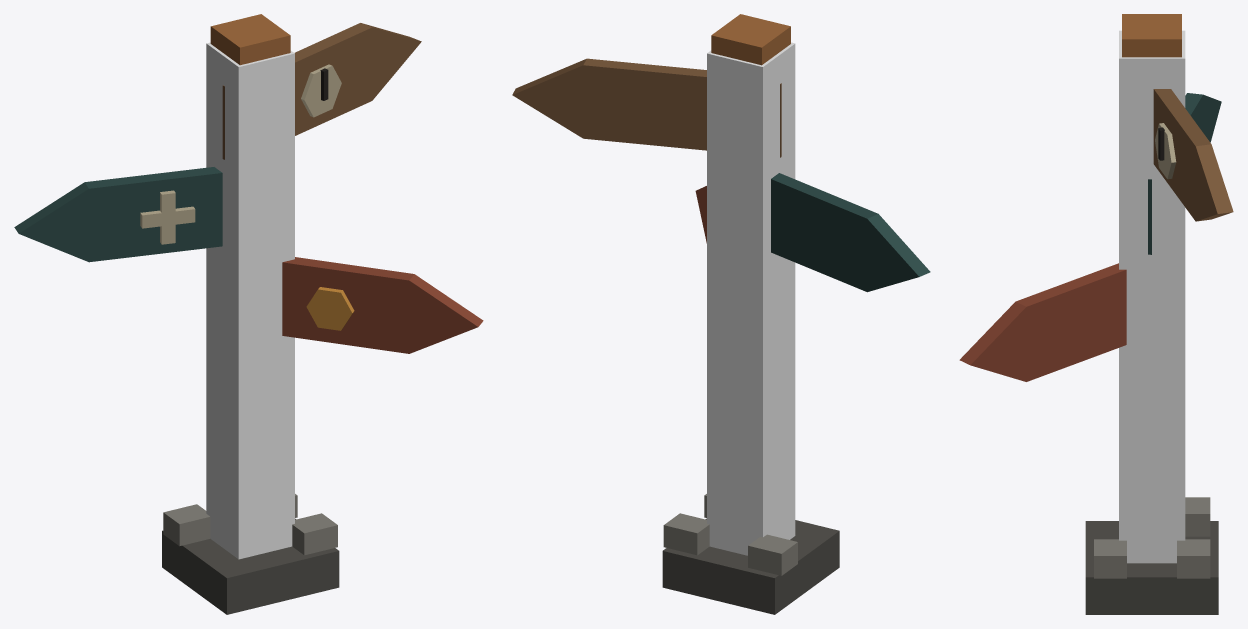
The model's file is camp_signpost.glb.
3 renders of one model, left to right at view 1: azimuth 30°, elevation 25°; view 2: azimuth 150°, elevation 25°; view 3: azimuth 270°, elevation 25°, orthographic. The views are drawn at different scales.
Parts seen in each view (by area): view 1: Body, camp_signpost-col-col; view 2: camp_signpost-col-col, Body; view 3: Body, camp_signpost-col-col.
Boxes of the visible parts, x1,y1,x2,y2 form: Body: [14, 14, 483, 614]; camp_signpost-col-col: [206, 42, 294, 559]; camp_signpost-col-col: [707, 42, 795, 555]; Body: [512, 14, 930, 614]; Body: [959, 14, 1233, 614]; camp_signpost-col-col: [1119, 30, 1185, 563].
Size of the model in its own units: 2.91 by 3.72 by 1.65.
